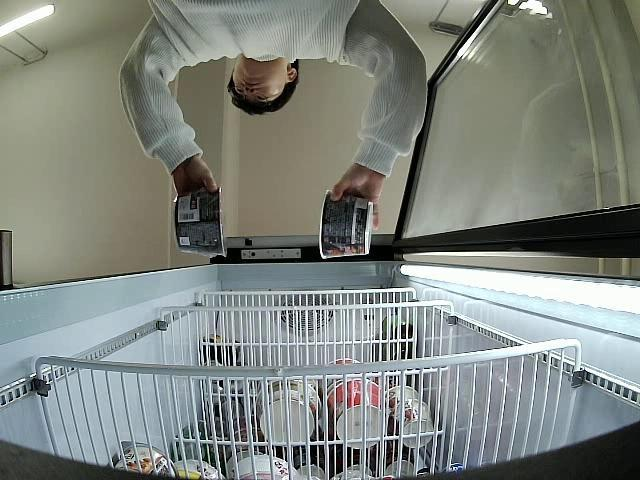07_buldak_L: (172, 182, 227, 260), (318, 188, 372, 260)
